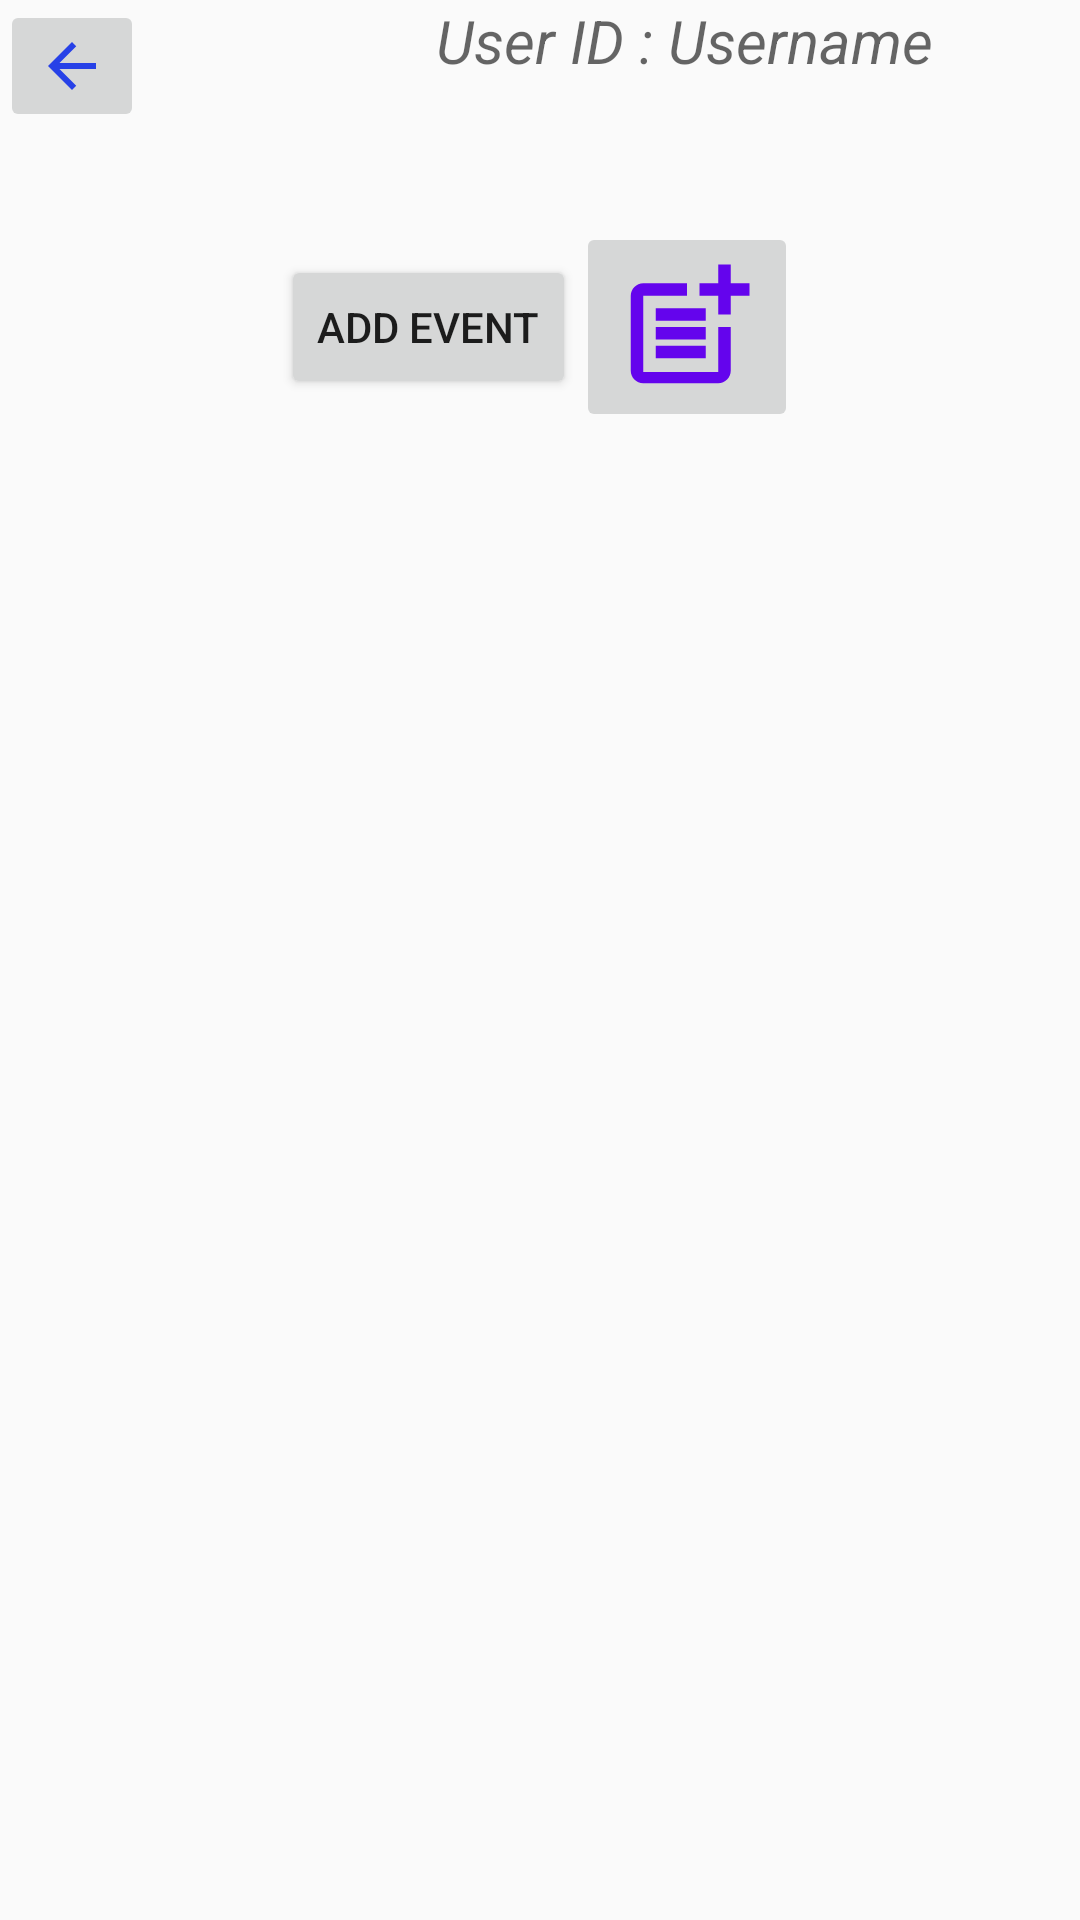

Point at icon controls on the screen. Image size 1080 × 1920, points as (x,y).
back: (72,66)
